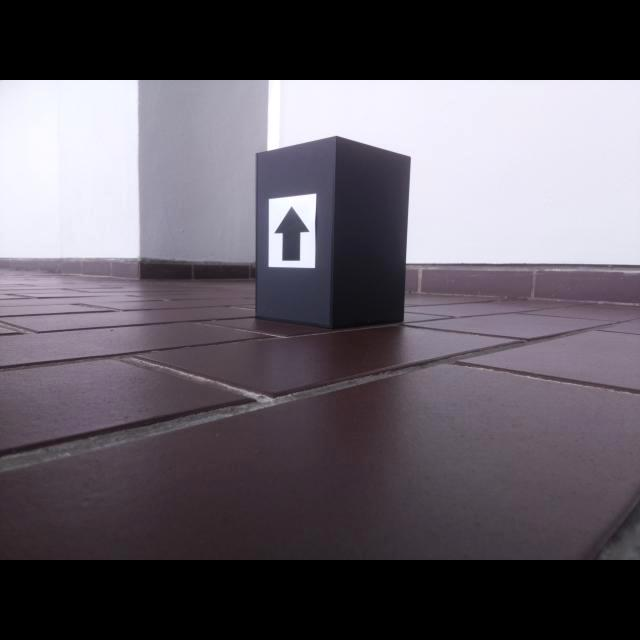UP: (274, 206, 311, 261)
